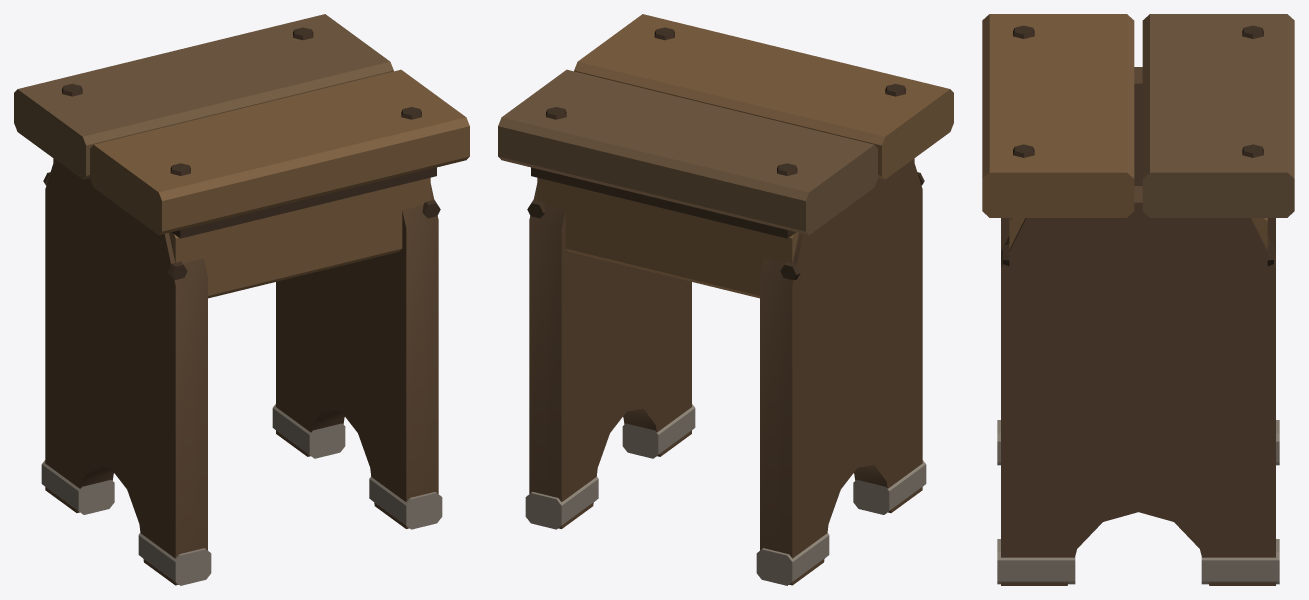
The model's file is SM_LPD_Furn_StoolSquare_01.fbx.
3 renders of one model, left to right at view 1: azimuth 30°, elevation 25°; view 2: azimuth 150°, elevation 25°; view 3: azimuth 270°, elevation 25°, orthographic. The views are drawn at different scales.
Parts seen in each view (by area): view 1: SM_LPD_Furn_StoolSquare_01; view 2: SM_LPD_Furn_StoolSquare_01; view 3: SM_LPD_Furn_StoolSquare_01.
Part boxes in pixels (box(x1,y1,x2,y2)): SM_LPD_Furn_StoolSquare_01: box(14, 14, 469, 585); SM_LPD_Furn_StoolSquare_01: box(498, 14, 953, 585); SM_LPD_Furn_StoolSquare_01: box(982, 14, 1294, 585).
Size of the model in its own units: 0.36 by 0.454 by 0.3.
